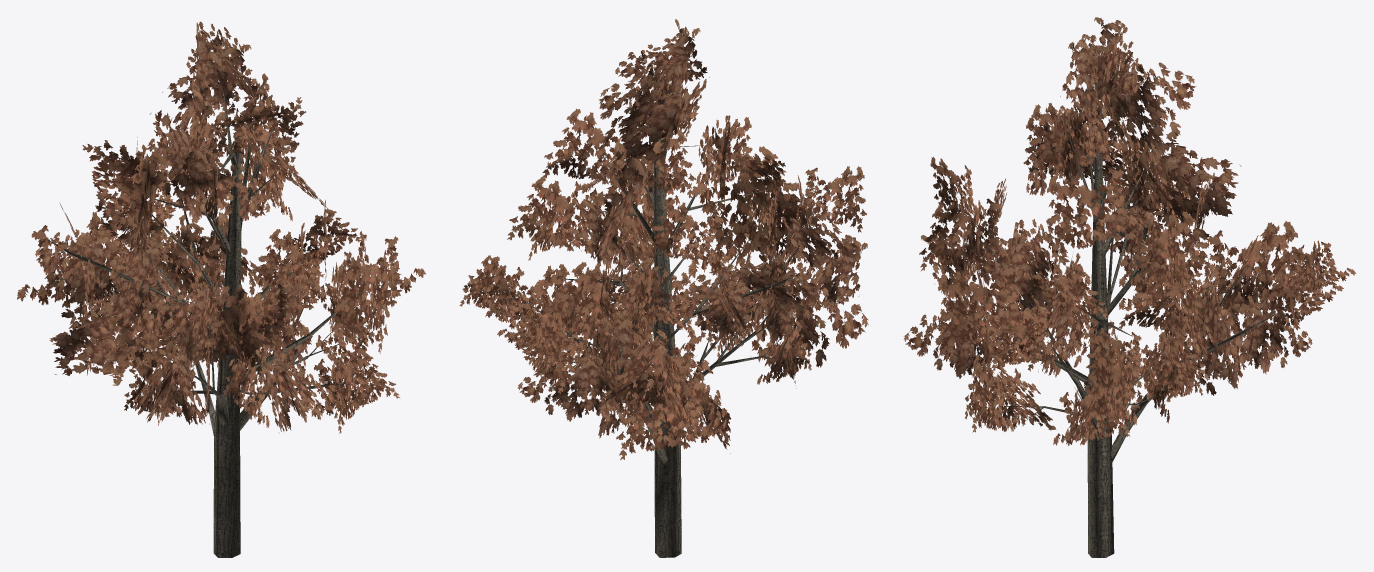
The model's file is Vegetation_Tree02c.glb.
3 views of the same model, side by side, from view 1: azimuth 30°, elevation 25°; view 2: azimuth 150°, elevation 25°; view 3: azimuth 270°, elevation 25° (orthographic).
Parts seen in each view (by area): view 1: zw_tree02c_0; view 2: zw_tree02c_0; view 3: zw_tree02c_0.
Boxes of the visible parts, left/top/right/bottom form: zw_tree02c_0: left=17, top=21, right=425, bottom=557; zw_tree02c_0: left=459, top=19, right=868, bottom=557; zw_tree02c_0: left=903, top=17, right=1356, bottom=557.
Size of the model in its own units: 9.67 by 14.1 by 11.15.
2 materials, 2 textured.
